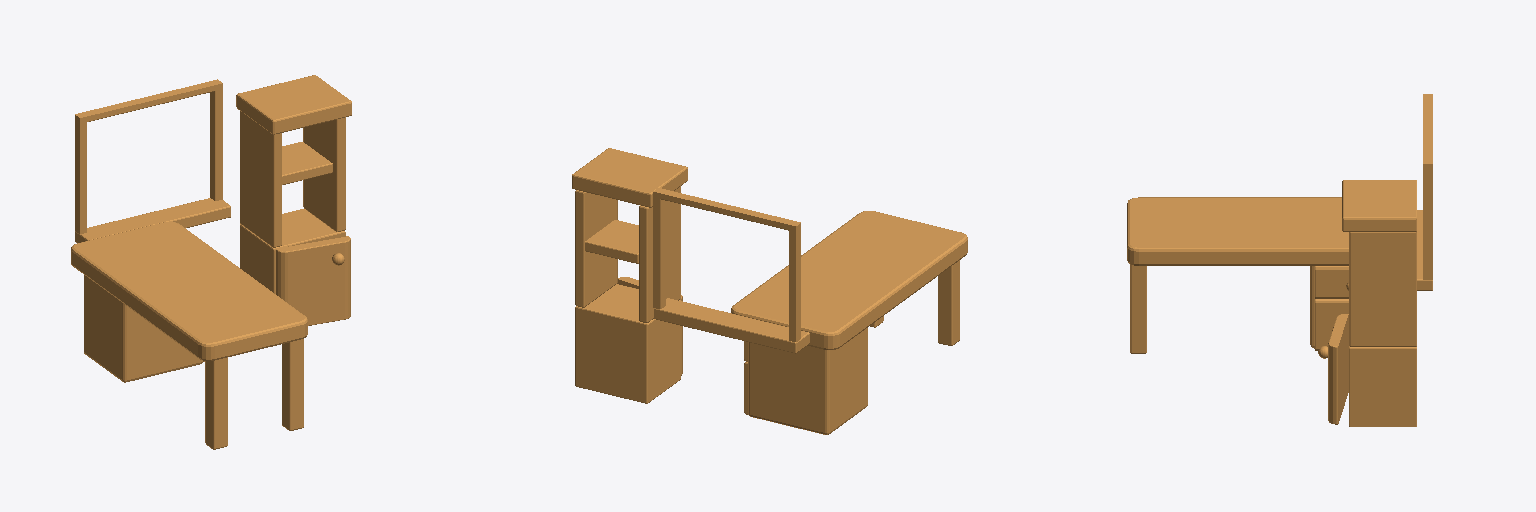
The model's file is LighterWoodTexture.obj.
3 renders of one model, left to right at view 1: azimuth 30°, elevation 25°; view 2: azimuth 150°, elevation 25°; view 3: azimuth 270°, elevation 25°, orthographic.
Parts seen in each view (by area): view 1: Desk TableTop, Desk DeskDrawers, Shelf ShelfCabnet, Shelf ShelfSide1, Shelf ShelfTop1, WindowStillTop Room, Shelf ShelfSide3, Shelf ShelfBottom, Room WindowSillTop, TableLeg2 Desk, Desk TableLeg1, ShelfShelf Shelf; view 2: Desk TableTop, Shelf ShelfBottom, Desk DeskDrawers, WindowStillTop Room, Shelf ShelfTop1, Shelf ShelfSide3, Room WindowSillTop, Shelf ShelfSide1, TableLeg2 Desk, ShelfShelf Shelf; view 3: Desk TableTop, Shelf ShelfSide3, Shelf ShelfBottom, Shelf ShelfTop1, Shelf ShelfCabnet, WindowStillTop Room, Desk TableLeg1, Desk DeskDrawers1, Desk DeskDrawers2, Room WindowSillTop.
Boxes of the visible parts, box(x1,y1,x2,y2) form: Desk TableTop: box(71, 222, 307, 360); Desk DeskDrawers: box(84, 275, 203, 382); Shelf ShelfCabnet: box(276, 236, 350, 325); Shelf ShelfSide1: box(240, 111, 281, 247); Shelf ShelfTop1: box(236, 75, 351, 134); WindowStillTop Room: box(75, 79, 222, 233); Shelf ShelfSide3: box(303, 117, 345, 231); Shelf ShelfBottom: box(240, 209, 345, 293); Room WindowSillTop: box(75, 198, 230, 242); TableLeg2 Desk: box(205, 357, 227, 449); Desk TableLeg1: box(282, 339, 303, 430); ShelfShelf Shelf: box(282, 142, 332, 184); Desk TableTop: box(731, 211, 967, 349); Shelf ShelfBottom: box(575, 284, 680, 403); Desk DeskDrawers: box(748, 328, 867, 434); WindowStillTop Room: box(653, 188, 800, 341); Shelf ShelfTop1: box(572, 148, 687, 207); Shelf ShelfSide3: box(575, 190, 617, 307); Room WindowSillTop: box(654, 298, 809, 353); Shelf ShelfSide1: box(639, 186, 680, 322); TableLeg2 Desk: box(938, 260, 959, 345); ShelfShelf Shelf: box(585, 220, 638, 263); Desk TableTop: box(1127, 197, 1348, 265); Shelf ShelfSide3: box(1349, 232, 1416, 346); Shelf ShelfBottom: box(1349, 346, 1416, 426); Shelf ShelfTop1: box(1342, 180, 1416, 231); Shelf ShelfCabnet: box(1328, 314, 1348, 424); WindowStillTop Room: box(1423, 94, 1432, 279); Desk TableLeg1: box(1130, 264, 1146, 353); Desk DeskDrawers1: box(1315, 299, 1348, 350); Desk DeskDrawers2: box(1315, 266, 1348, 298); Room WindowSillTop: box(1417, 210, 1432, 290).
Bounding box in the file's own units: 2.99 × 2.48 × 3.1.